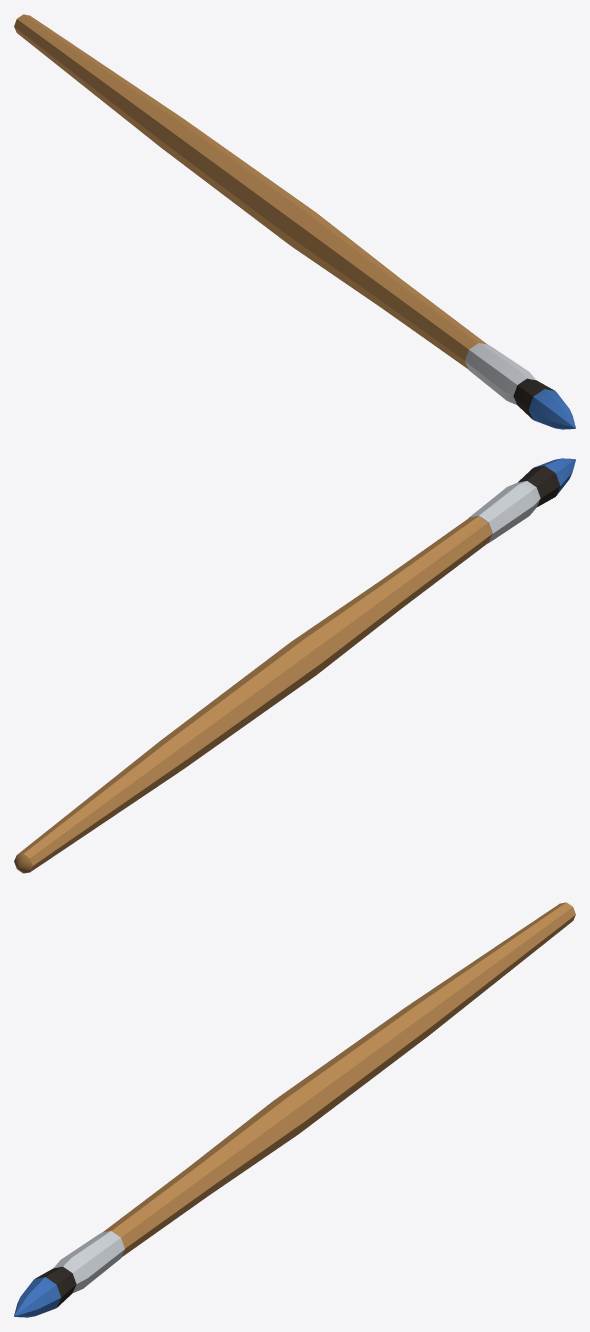
Rendered from paintbrush.glb.
3 views of the same model, one above another, from view 1: azimuth 30°, elevation 25°; view 2: azimuth 150°, elevation 25°; view 3: azimuth 330°, elevation 25° (orthographic).
Parts seen in each view (by area): view 1: paintbrush; view 2: paintbrush; view 3: paintbrush.
Part boxes in pixels (bbox=[...]): paintbrush: bbox=[14, 14, 575, 429]; paintbrush: bbox=[14, 458, 575, 873]; paintbrush: bbox=[14, 902, 575, 1317].
Bounding box in the file's own units: 0.0096 × 0.0096 × 0.254.
